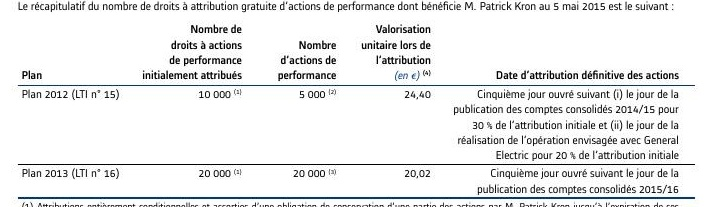table: (0, 0, 707, 207)
